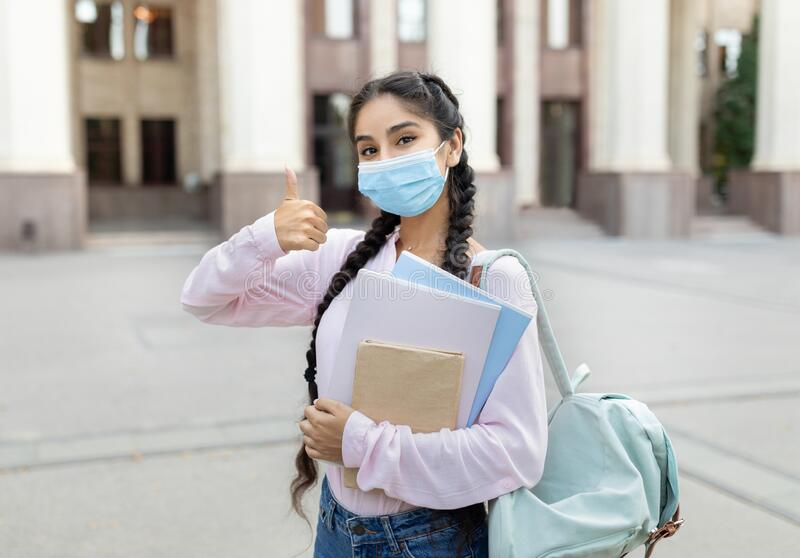mask: (353, 152, 451, 218)
person: (180, 70, 575, 558)
